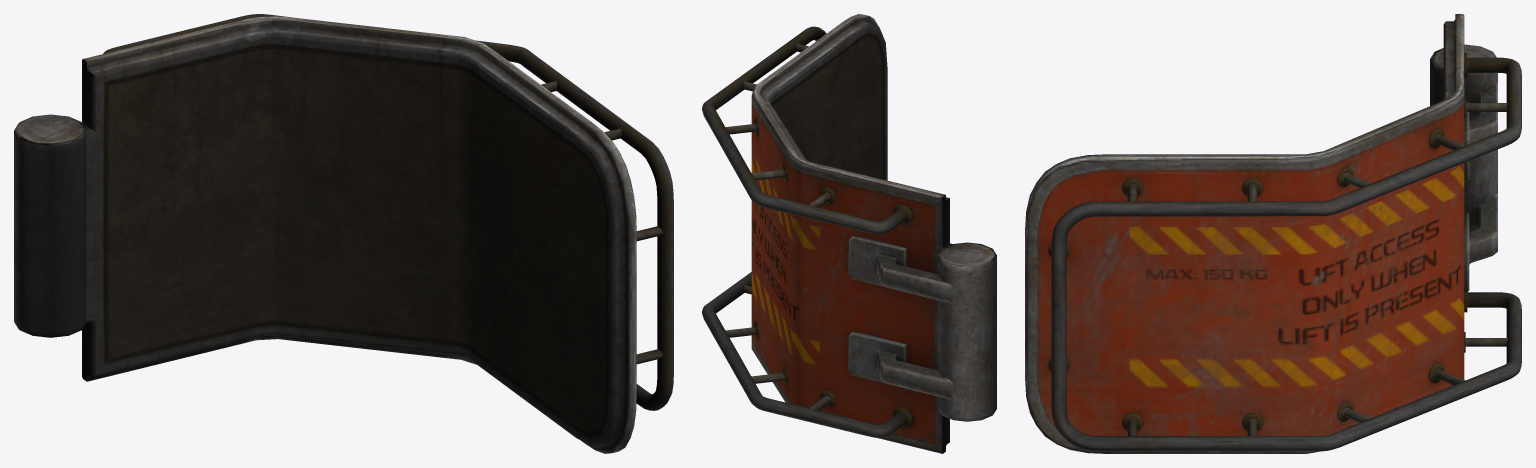
Rendered from cargo_elevator_tau_door_right.dae.
3 views of the same model, side by side, from view 1: azimuth 30°, elevation 25°; view 2: azimuth 150°, elevation 25°; view 3: azimuth 270°, elevation 25° (orthographic). The views are drawn at different scales.
Visible parts, largest first — view 1: door; view 2: door; view 3: door.
Boxes of the visible parts, x1,y1,x2,y2 form: door: [14, 14, 673, 453]; door: [702, 14, 996, 453]; door: [1025, 14, 1521, 453].
Size of the model in its own units: 2.01 by 1.41 by 2.14.
